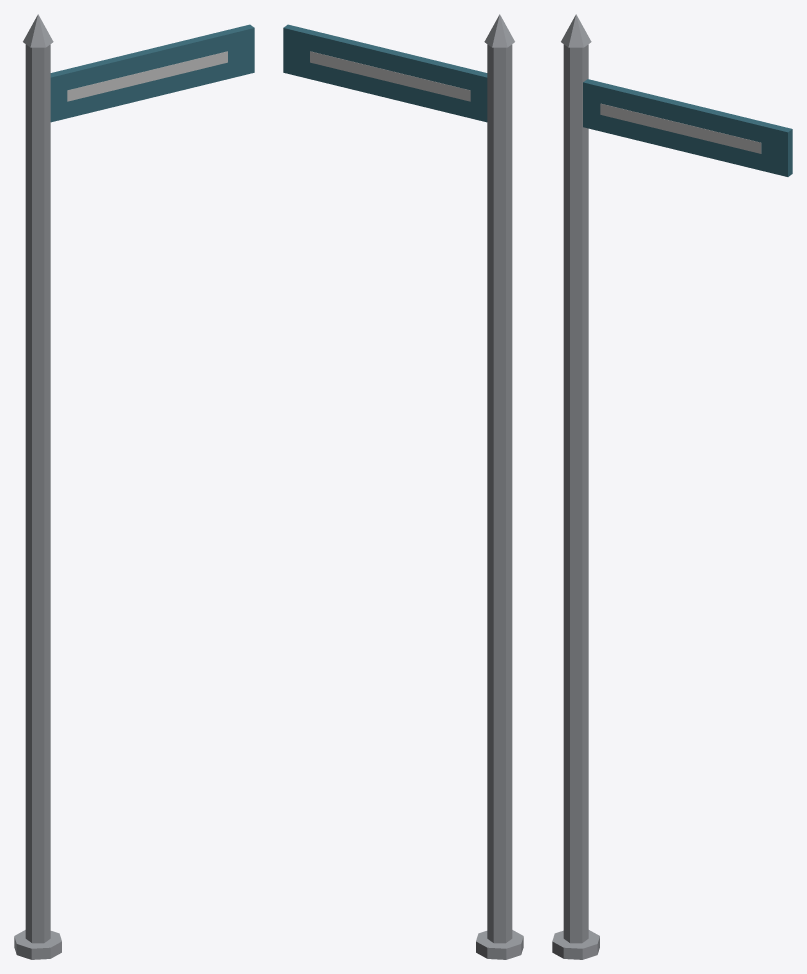
Rendered from objet_panneau_rue.glb.
3 renders of one model, left to right at view 1: azimuth 30°, elevation 25°; view 2: azimuth 150°, elevation 25°; view 3: azimuth 330°, elevation 25°, orthographic.
Parts seen in each view (by area): view 1: objet_panneau_rue; view 2: objet_panneau_rue; view 3: objet_panneau_rue.
Boxes of the visible parts, x1=… form: objet_panneau_rue: x1=14, y1=14, x2=254, y2=959; objet_panneau_rue: x1=283, y1=14, x2=523, y2=959; objet_panneau_rue: x1=552, y1=14, x2=792, y2=959.
Bounding box in the file's own units: 0.88 × 3.34 × 0.16.
